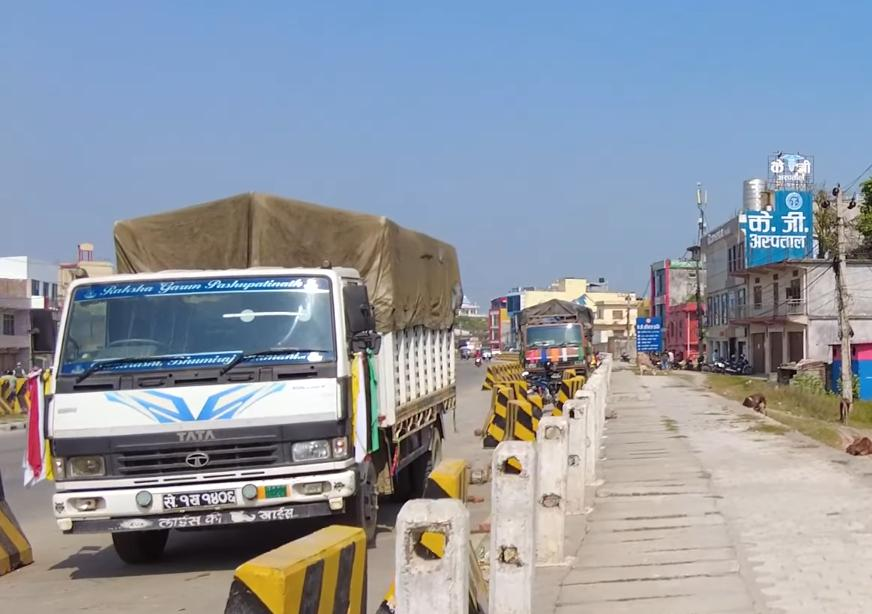mini_truck: (512, 295, 596, 384)
truck: (40, 189, 463, 564)
